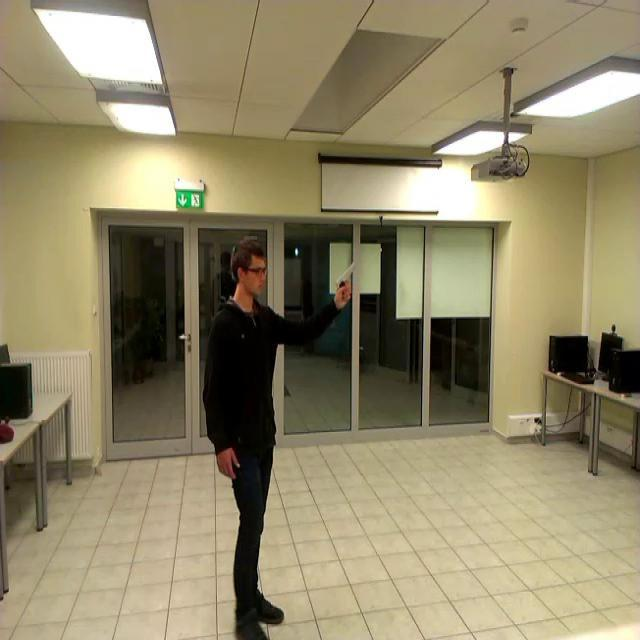weapon: (334, 265, 356, 301)
